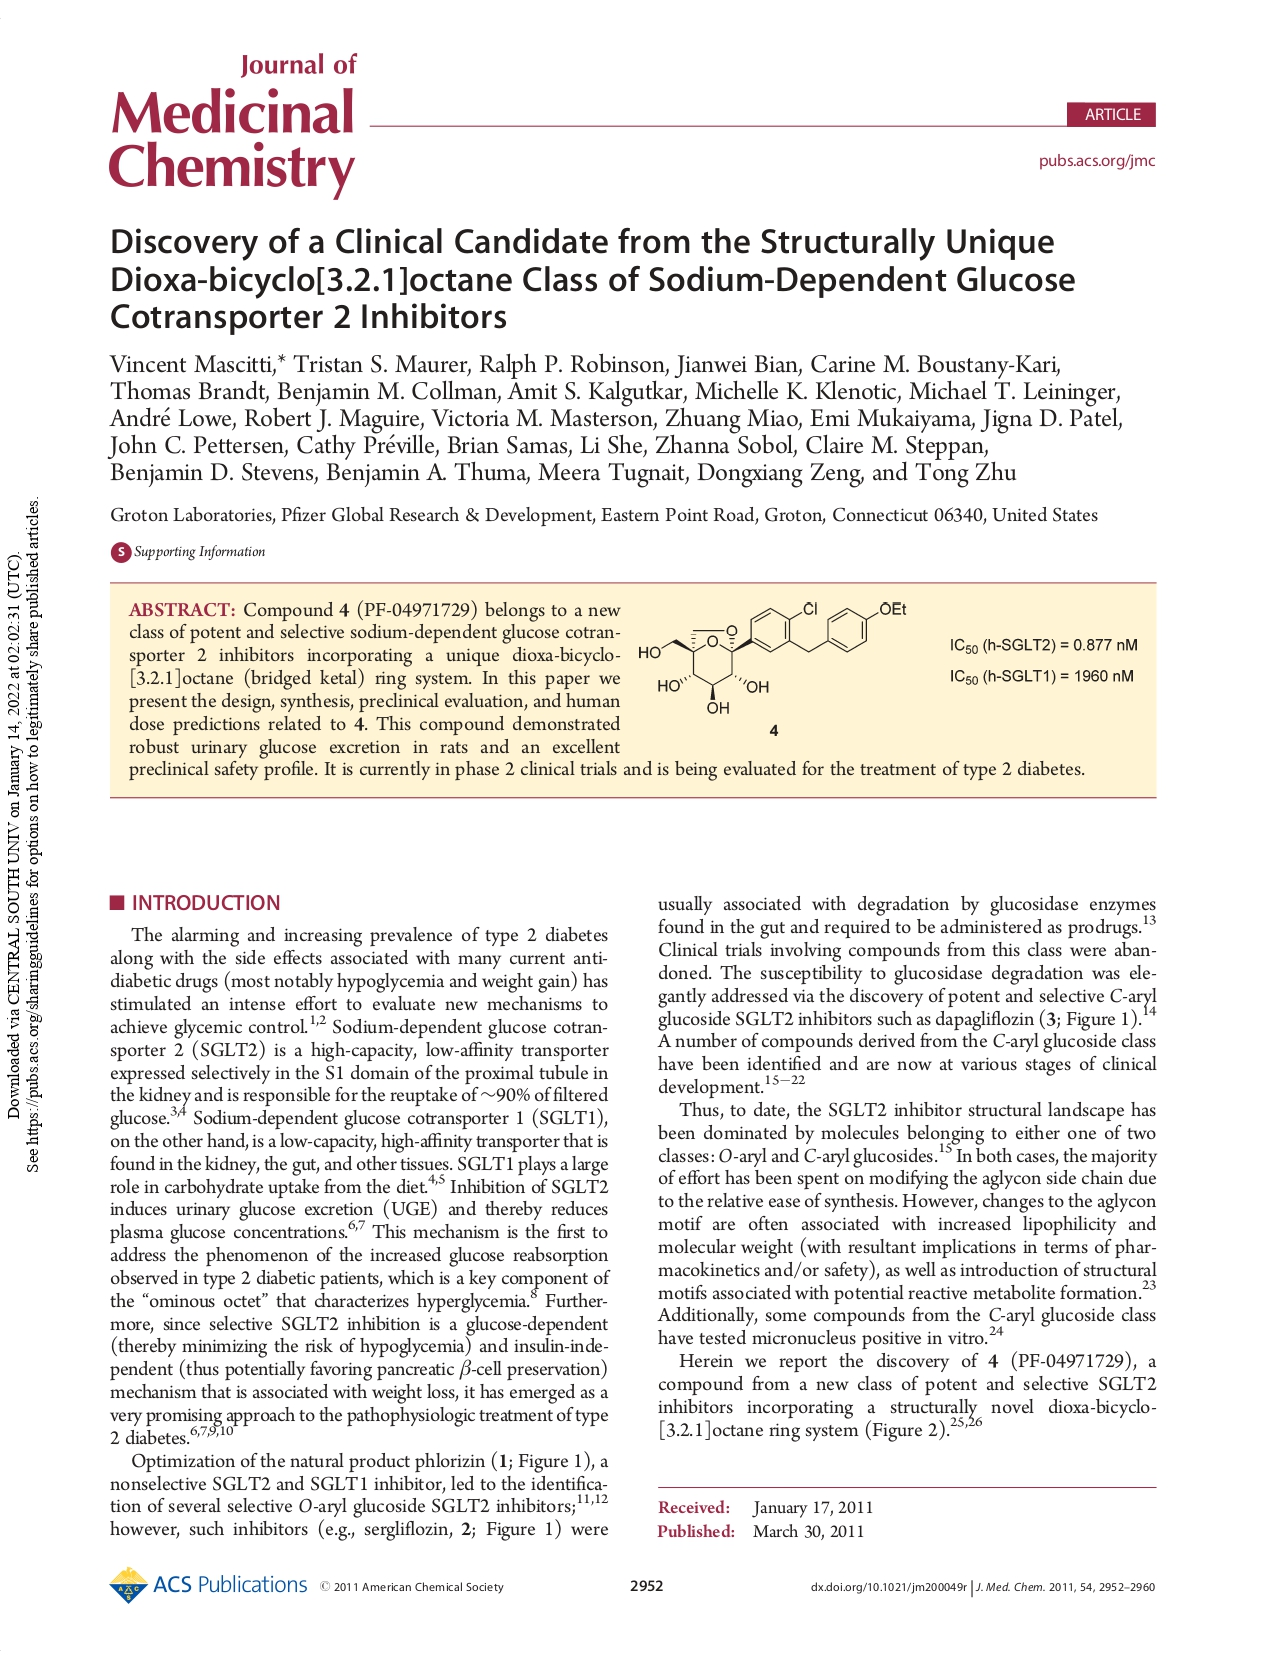exist_molecular: (636, 597, 910, 717)
